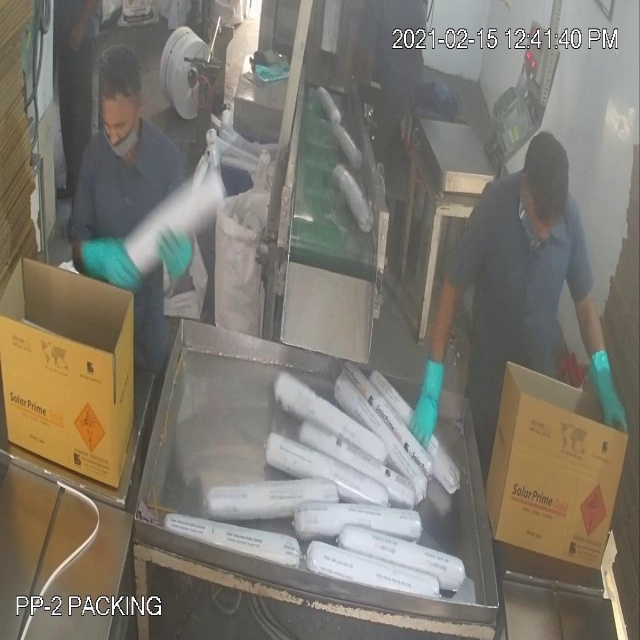Guantes: (585, 331, 634, 460), (404, 332, 450, 469), (83, 220, 143, 301)
Sin_guantes: (63, 1, 94, 82)
